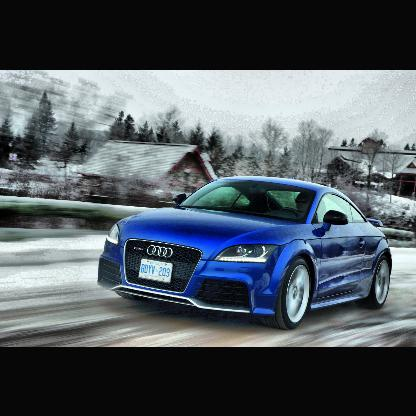Audi TT RS Coupe 2012: (96, 174, 395, 332)
